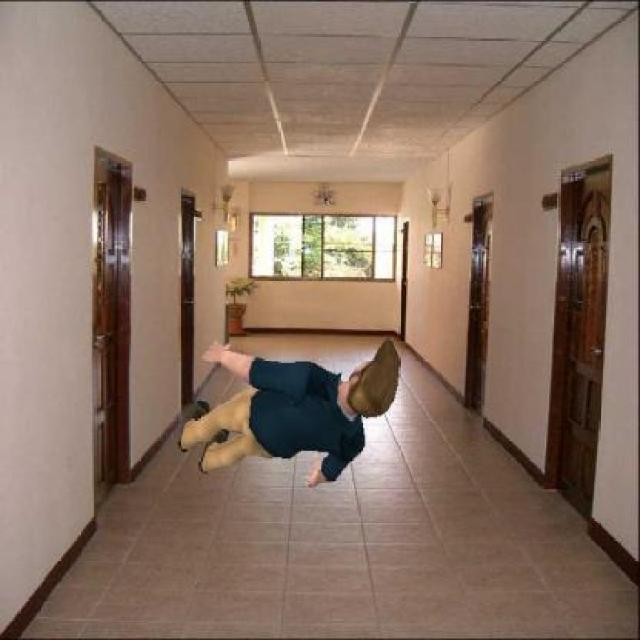Person: (177, 332, 403, 491)
